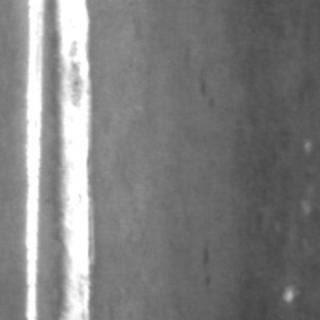inclusion: (196, 242, 214, 286)
scratches: (52, 0, 94, 316), (21, 0, 43, 316)
